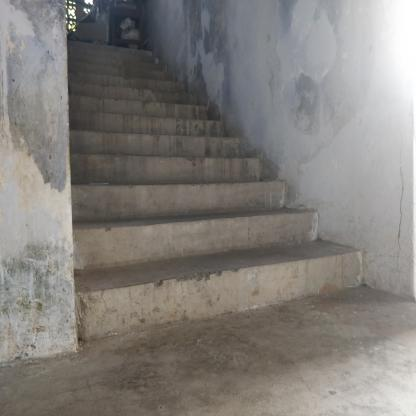stairs: (79, 162, 265, 350)
